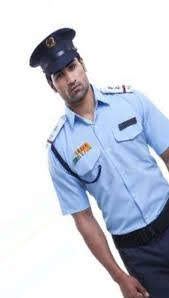uniform: (20, 28, 169, 297)
